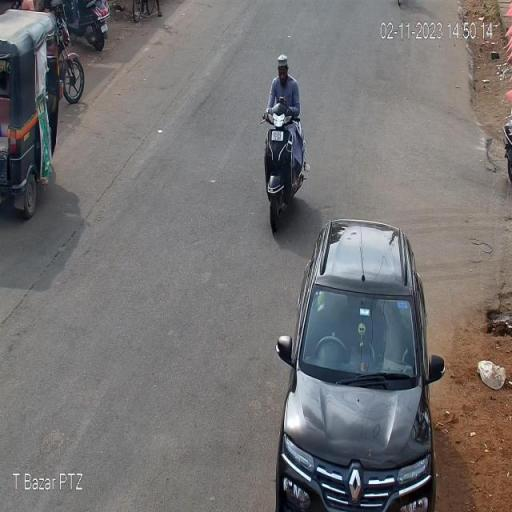using mobile: (278, 92, 288, 106)
